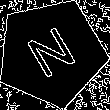N_SE: (21, 21, 82, 85)
